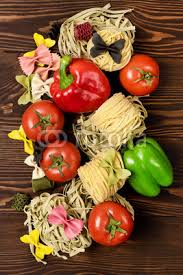Tomato: (87, 205, 136, 244), (125, 53, 162, 94), (26, 102, 62, 135), (46, 145, 80, 178)
